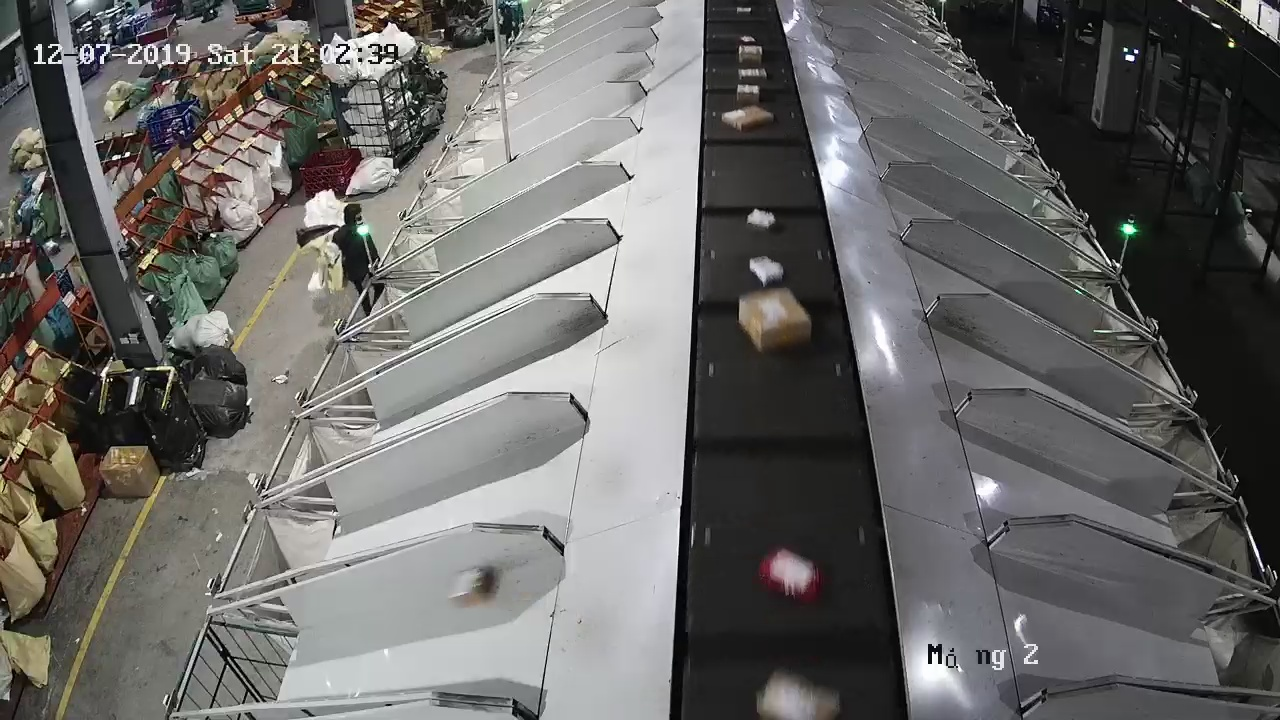parcel: (445, 565, 496, 609)
